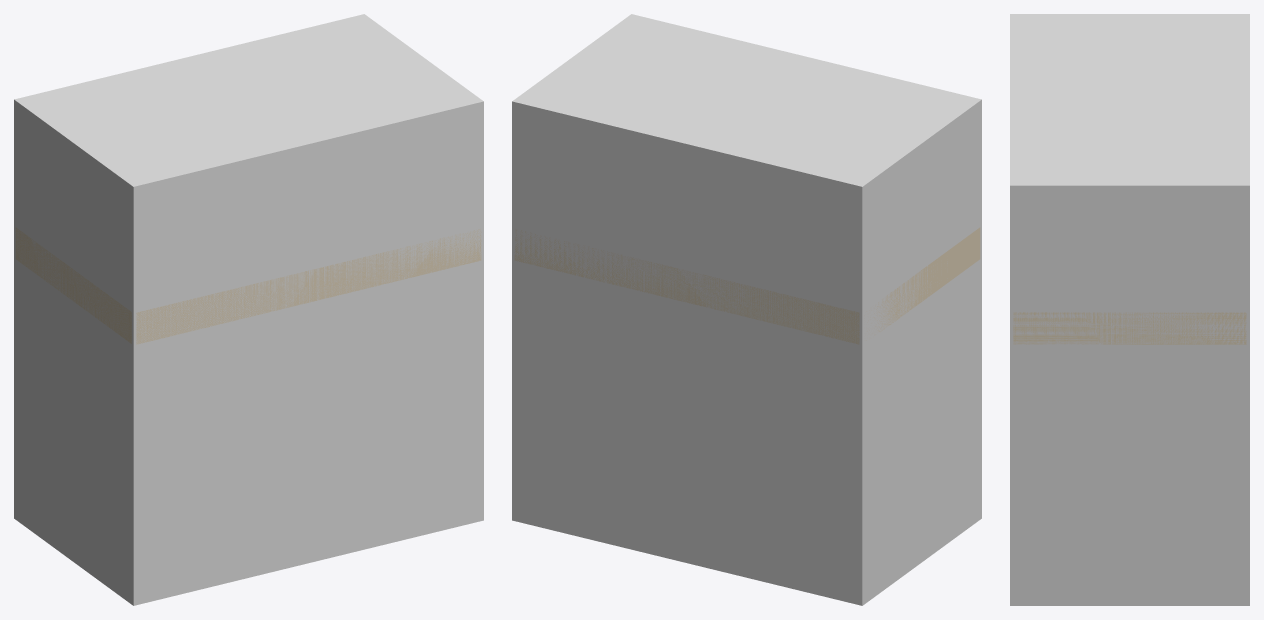
File: towel-station_basic.glb
3 views of the same model, side by side, from view 1: azimuth 30°, elevation 25°; view 2: azimuth 150°, elevation 25°; view 3: azimuth 270°, elevation 25° (orthographic).
Parts seen in each view (by area): view 1: COL_towel-station, MESH_Countertop; view 2: COL_towel-station, MESH_Countertop; view 3: COL_towel-station, MESH_Countertop.
Boxes of the visible parts, <box> form: COL_towel-station: <box>14,14,483,605</box>; MESH_Countertop: <box>15,227,481,344</box>; COL_towel-station: <box>512,14,981,605</box>; MESH_Countertop: <box>514,227,980,344</box>; COL_towel-station: <box>1010,14,1249,605</box>; MESH_Countertop: <box>1013,312,1246,344</box>.
Size of the model in its own units: 1.05 by 1.2 by 0.62.
